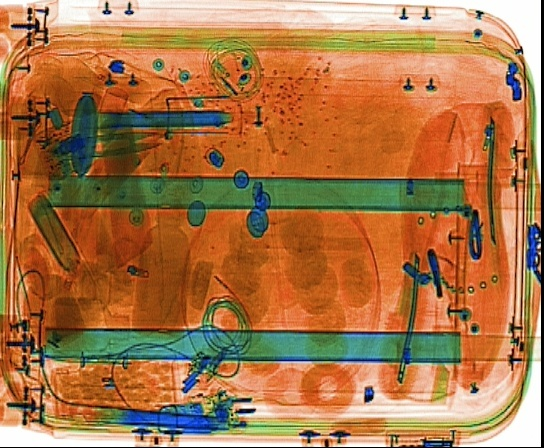scissors: (50, 129, 166, 160)
